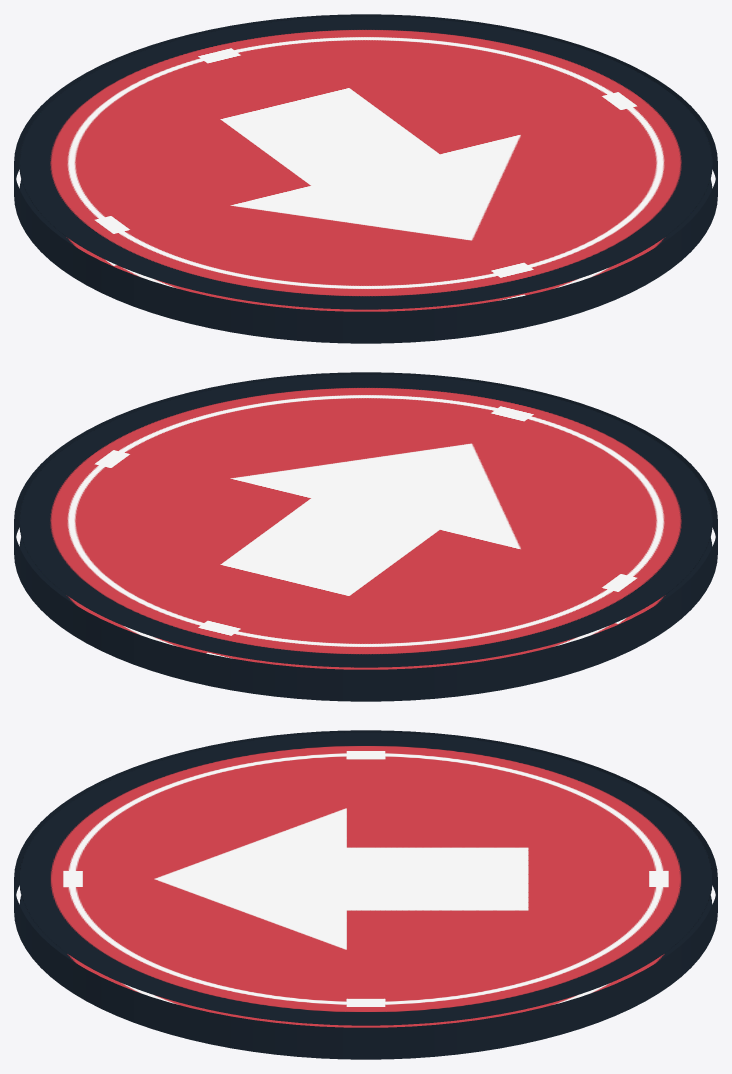
3 renders of one model, top to bottom at view 1: azimuth 30°, elevation 25°; view 2: azimuth 150°, elevation 25°; view 3: azimuth 270°, elevation 25°, orthographic.
Bounding box in the file's own units: 3.2 × 0.16 × 3.2.
Materials: 3 (3 with a texture image).
